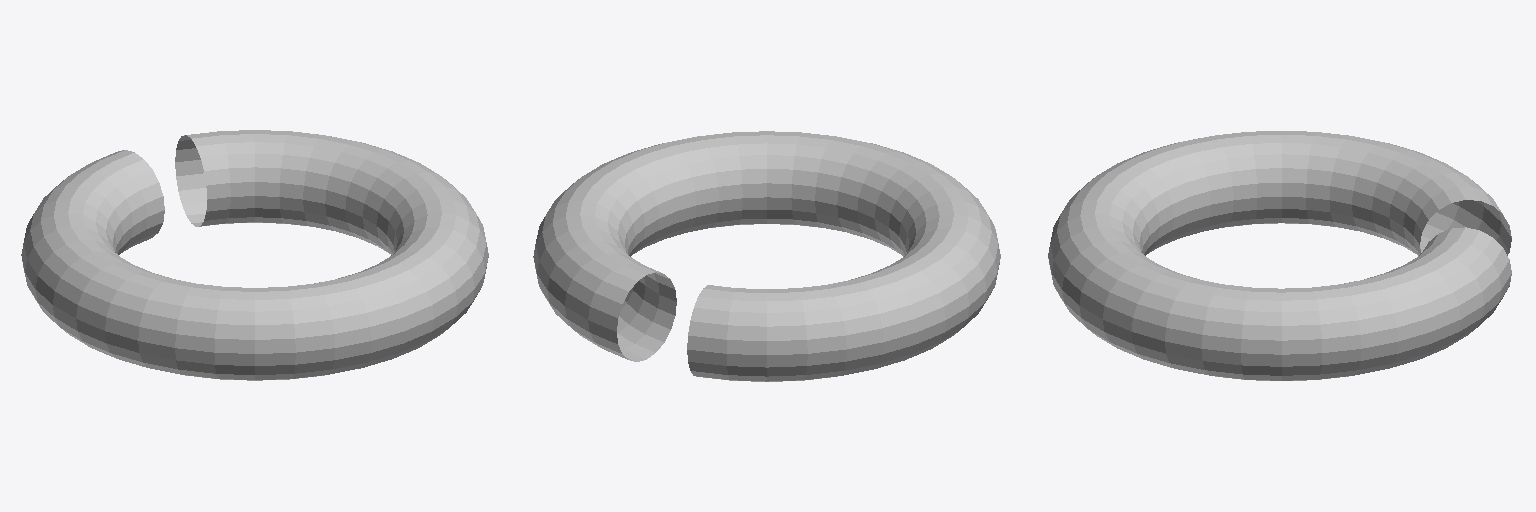
Rendered from inner_ring.obj.
3 views of the same model, side by side, from view 1: azimuth 30°, elevation 25°; view 2: azimuth 150°, elevation 25°; view 3: azimuth 270°, elevation 25° (orthographic).
Parts seen in each view (by area): view 1: inner; view 2: inner; view 3: inner.
Part boxes in pixels (bbox=[...]): inner: bbox=[21, 130, 488, 380]; inner: bbox=[533, 131, 1000, 381]; inner: bbox=[1048, 131, 1511, 380].
Size of the model in its own units: 5 by 1 by 4.96.